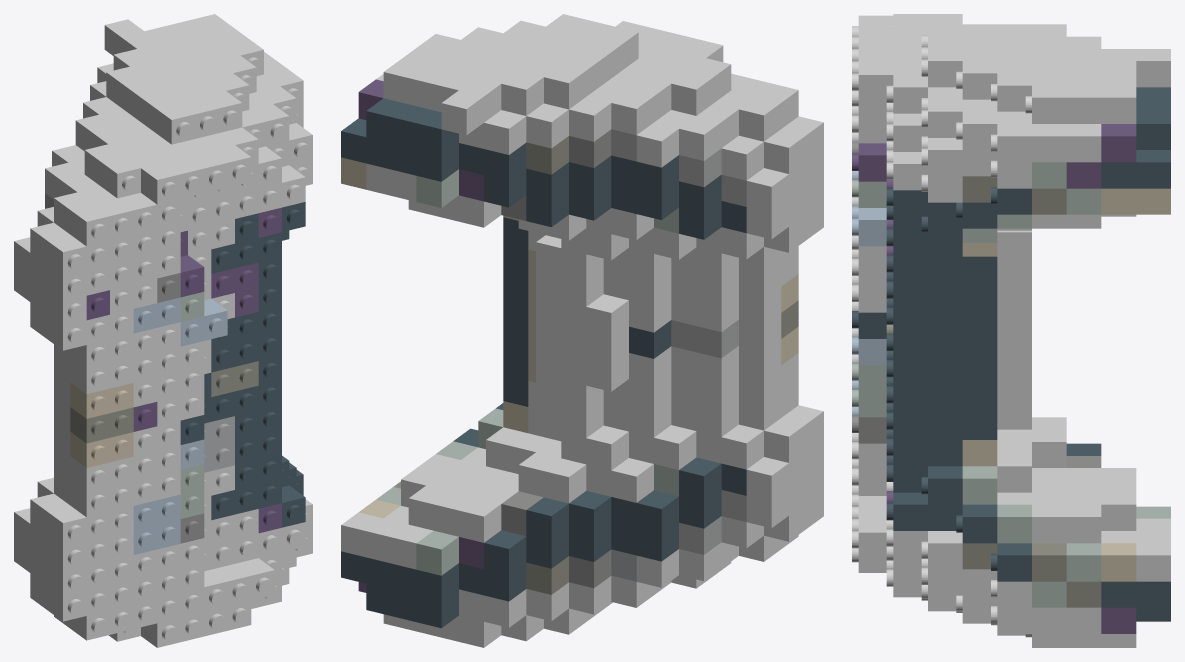
The model's file is full.glb.
3 renders of one model, left to right at view 1: azimuth 30°, elevation 25°; view 2: azimuth 150°, elevation 25°; view 3: azimuth 270°, elevation 25°, orthographic. The views are drawn at different scales.
Visible parts, largest first — view 1: world; view 2: world; view 3: world.
Boxes of the visible parts, x1,y1,x2,y2 form: world: (14,14,312,647); world: (341,14,823,647); world: (852,14,1170,647).
Bounding box in the file's own units: 104 × 168 × 88.2.
